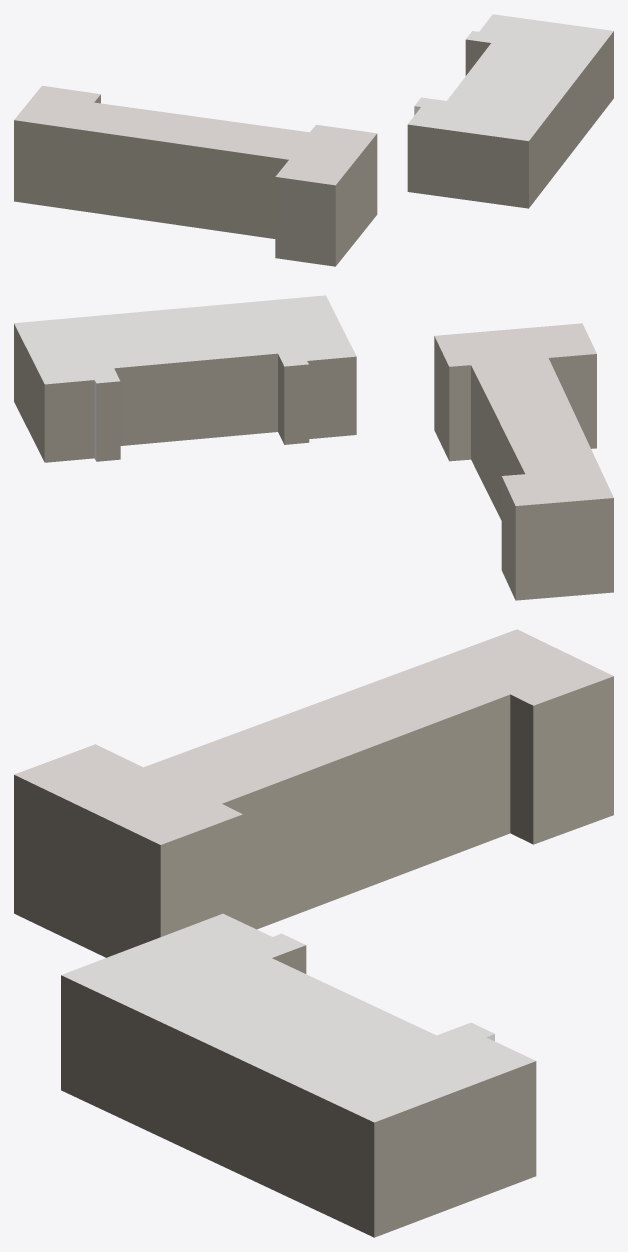
The picture shows the model from 3 angles, top to bottom: view 1: azimuth 30°, elevation 25°; view 2: azimuth 150°, elevation 25°; view 3: azimuth 270°, elevation 25°; orthographic projection. The views are drawn at different scales.
Visible parts, largest first — view 1: tuile; view 2: tuile; view 3: tuile.
Boxes of the visible parts, box(x1,y1,x2,y2) form: tuile: box(14, 14, 613, 266); tuile: box(14, 295, 613, 600); tuile: box(14, 629, 613, 1237).
Size of the model in its own units: 115 by 16.48 by 62.61.
